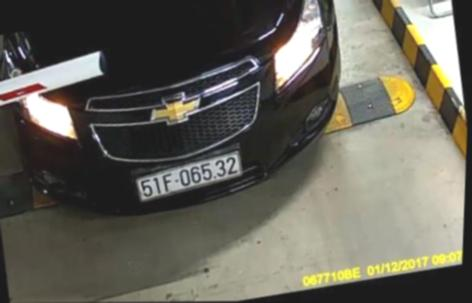License_Plate: (129, 154, 242, 207)
